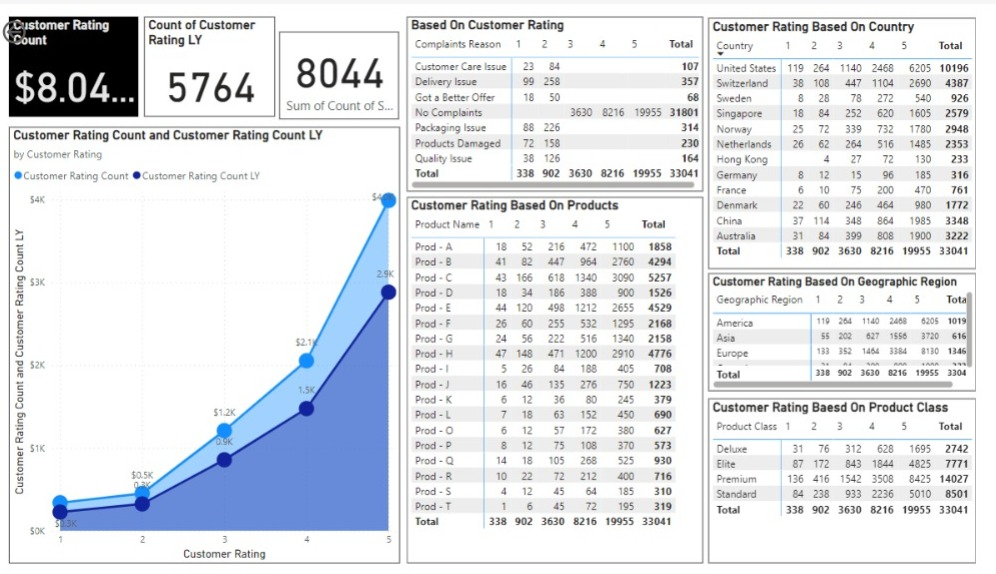

This screenshot's page, from the dashboard's own definition file:
{"tool":"powerbi","page":{"name":"Page 3","canvas":[1280,720],"ordinal":3},"visuals":[{"type":"areaChart","fields":{"Category":["Sales Data.Customer Rating"],"Y":["All Measures Table.Customer Rating Count","All Measures Table.Customer Rating Count LY"]},"box":[13.6,144.1,511.9,571.2],"z":0},{"type":"card","title":"Customer Rating Count","fields":{"Values":["All Measures Table.Customer Rating Count"]},"box":[13.6,0,169.5,130.5],"z":1000},{"type":"card","title":"Count of Customer Rating LY","fields":{"Values":["All Measures Table.Customer Rating Count LY"]},"box":[189.8,0,171.2,130.5],"z":2000},{"type":"actionButton","box":[0,0,100,40],"z":3000},{"type":"card","fields":{"Values":["Sum(All Measures Table.Count of Sales)"]},"box":[367.3,19.4,156.9,114.9],"z":4000},{"type":"pivotTable","title":"Based On Customer Rating","fields":{"Rows":["Sales Data.Complaints Reason"],"Columns":["Sales Data.Customer Rating"],"Values":["Sum(Sales Data.Customer Rating)"]},"box":[533.9,0,388.1,228.8],"z":5000},{"type":"pivotTable","title":"Customer Rating Based On Country","fields":{"Columns":["Sales Data.Customer Rating"],"Values":["Sum(Sales Data.Customer Rating)"],"Rows":["Location Details.Country"]},"box":[928.8,1.7,350.8,328.8],"z":6000},{"type":"pivotTable","title":"Customer Rating Based On Products","fields":{"Columns":["Sales Data.Customer Rating"],"Values":["Sum(Sales Data.Customer Rating)"],"Rows":["Products Details.Product Name"]},"box":[533.9,235.6,388.1,479.7],"z":7000},{"type":"pivotTable","title":"Customer Rating Based On Geographic Region","fields":{"Rows":["Sales Data.Geographic Region"],"Columns":["Sales Data.Customer Rating"],"Values":["Sum(Sales Data.Customer Rating)"]},"box":[928.8,335.6,350.8,154.2],"z":8000},{"type":"pivotTable","title":"Customer Rating Baesd On Product Class","fields":{"Columns":["Sales Data.Customer Rating"],"Values":["Sum(Sales Data.Customer Rating)"],"Rows":["Products Details.Product Class"]},"box":[928.8,500,350.8,215.3],"z":9000}]}

Visuals, with their boxes in screenshot pixels (x1, y1, x2, y2), scaled from the page's 1280x720 canvas onto the 996x574 screenshot:
areaChart - Sales Data.Customer Rating x All Measures Table.Customer Rating Count: (left=11, top=115, right=409, bottom=570)
"Customer Rating Count" card: (left=11, top=0, right=142, bottom=104)
"Count of Customer Rating LY" card: (left=148, top=0, right=281, bottom=104)
actionButton: (left=0, top=0, right=78, bottom=32)
card - Sum(All Measures Table.Count of Sales): (left=286, top=15, right=408, bottom=107)
"Based On Customer Rating" pivotTable: (left=415, top=0, right=717, bottom=182)
"Customer Rating Based On Country" pivotTable: (left=723, top=1, right=995, bottom=263)
"Customer Rating Based On Products" pivotTable: (left=415, top=188, right=717, bottom=570)
"Customer Rating Based On Geographic Region" pivotTable: (left=723, top=268, right=995, bottom=390)
"Customer Rating Baesd On Product Class" pivotTable: (left=723, top=399, right=995, bottom=570)
